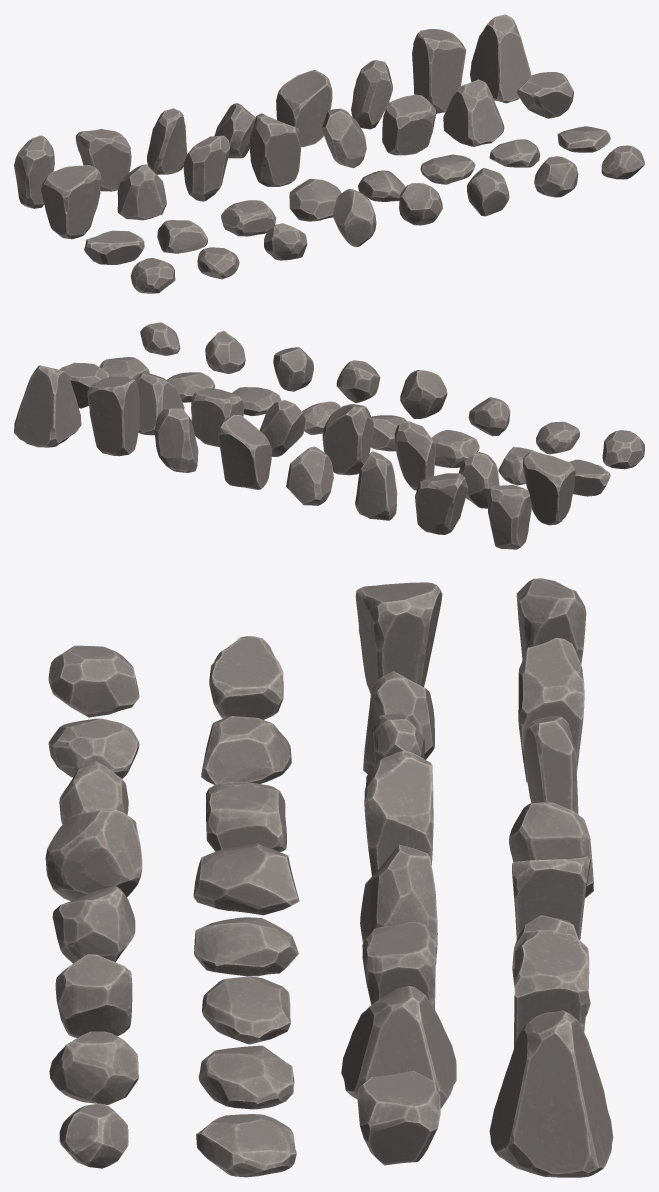
File: RocasChicas.fbx
3 views of the same model, one above another, from view 1: azimuth 30°, elevation 25°; view 2: azimuth 150°, elevation 25°; view 3: azimuth 270°, elevation 25° (orthographic). The views are drawn at different scales.
Visible parts, largest first — view 1: Desert_Rock8, Desert_Rock9, Desert_Rock7, Desert_Rock12, Desert_Rock5, Desert_Rock15, Desert_Rock14, Desert_Rock2, Desert_Rock11, Desert_Rock10, Desert_Rock3, Desert_Rock6 (+20 smaller); view 2: Desert_Rock8, Desert_Rock7, Desert_Rock5, Desert_Rock9, Desert_Rock12, Desert_Rock2, Desert_Rock1, Desert_Rock3, Desert_Rock6, Desert_Rock4, Desert_Rock14, Desert_Rock11 (+20 smaller); view 3: Desert_Rock8, Desert_Rock15, Desert_Rock9, Desert_Rock28, Desert_Rock12, Desert_Rock16, Desert_Rock7, Desert_Rock20, Desert_Rock2, Desert_Rock30, Desert_Rock13, Desert_Rock31 (+20 smaller).
Boxes of the visible parts, x1,y1,x2,y2 form: Desert_Rock8: (470, 14, 531, 103); Desert_Rock9: (41, 165, 100, 239); Desert_Rock7: (412, 29, 466, 113); Desert_Rock12: (249, 113, 300, 186); Desert_Rock5: (276, 70, 332, 147); Desert_Rock15: (443, 79, 504, 146); Desert_Rock14: (382, 94, 435, 155); Desert_Rock2: (75, 129, 131, 191); Desert_Rock11: (183, 135, 229, 201); Desert_Rock10: (117, 164, 166, 220); Desert_Rock3: (147, 108, 187, 174); Desert_Rock6: (351, 60, 392, 129); Desert_Rock8: (14, 365, 81, 447); Desert_Rock7: (87, 376, 139, 456); Desert_Rock5: (218, 415, 271, 489); Desert_Rock9: (523, 451, 575, 525); Desert_Rock12: (322, 404, 373, 475); Desert_Rock2: (415, 473, 468, 534); Desert_Rock1: (487, 485, 531, 549); Desert_Rock3: (355, 451, 397, 520); Desert_Rock6: (154, 407, 198, 472); Desert_Rock4: (286, 446, 333, 505); Desert_Rock14: (191, 387, 244, 446); Desert_Rock11: (394, 421, 435, 490); Desert_Rock8: (489, 1010, 613, 1177); Desert_Rock15: (341, 986, 456, 1108); Desert_Rock9: (355, 582, 442, 694); Desert_Rock28: (45, 810, 142, 900); Desert_Rock12: (364, 751, 433, 875); Desert_Rock16: (357, 1070, 440, 1165); Desert_Rock7: (514, 930, 589, 1047); Desert_Rock20: (193, 843, 299, 915); Desert_Rock2: (518, 637, 584, 782); Desert_Rock30: (55, 954, 132, 1037); Desert_Rock13: (360, 844, 437, 964); Desert_Rock31: (49, 1031, 138, 1104).
Bounding box in the file's own units: 774 × 111 × 372.
